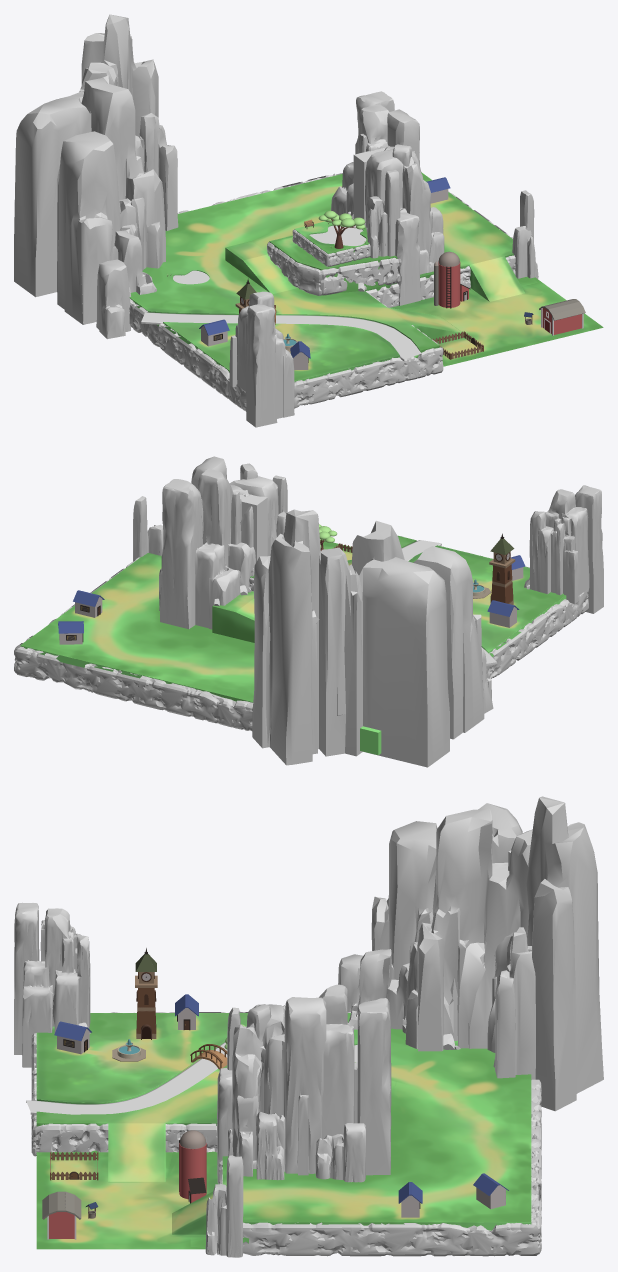
File: map 2.fbx
3 renders of one model, top to bottom at view 1: azimuth 30°, elevation 25°; view 2: azimuth 150°, elevation 25°; view 3: azimuth 270°, elevation 25°, orthographic. The views are drawn at different scales.
Visible parts, largest first — view 1: cliffs, ground, rock, river, Silo.001, BarnHouse, waterfall, TreeBig, lake, BasicHouse.003, Fence; view 2: cliffs, ground, rock, ClockTower, waterfall, BasicHouse.001, BasicHouse.003, BasicHouse.002, river; view 3: cliffs, ground, rock, river, Silo.001, ClockTower, BarnHouse, BasicHouse, BasicHouse.002, Fence, BasicHouse.001, BasicHouse.003.
Boxes of the visible parts, x1,y1,x2,y2 form: cliffs: (14, 14, 538, 427); ground: (129, 172, 603, 381); rock: (129, 171, 515, 411); river: (141, 312, 421, 361); Silo.001: (434, 251, 470, 308); BarnHouse: (539, 299, 585, 335); waterfall: (353, 146, 389, 226); TreeBig: (318, 210, 365, 248); lake: (309, 225, 366, 245); BasicHouse.003: (199, 319, 229, 346); Fence: (433, 331, 483, 359); cliffs: (133, 456, 603, 767); ground: (20, 536, 566, 755); rock: (14, 536, 588, 731); ClockTower: (489, 533, 515, 604); waterfall: (239, 494, 267, 562); BasicHouse.001: (73, 590, 104, 617); BasicHouse.003: (487, 600, 519, 627); BasicHouse.002: (58, 621, 83, 644); river: (401, 540, 497, 665); cliffs: (14, 796, 603, 1257); ground: (36, 1013, 531, 1249); rock: (31, 1011, 541, 1256); river: (26, 1005, 285, 1114); Silo.001: (179, 1130, 206, 1203); ClockTower: (135, 948, 157, 1039); BarnHouse: (42, 1191, 81, 1239); BasicHouse: (54, 1021, 91, 1054); BasicHouse.002: (473, 1173, 508, 1209); Fence: (50, 1152, 98, 1180); BasicHouse.001: (398, 1182, 422, 1217); BasicHouse.003: (175, 994, 198, 1030).
Bounding box in the file's own units: 6328 × 3668 × 6534.
6 materials, 3 textured.
